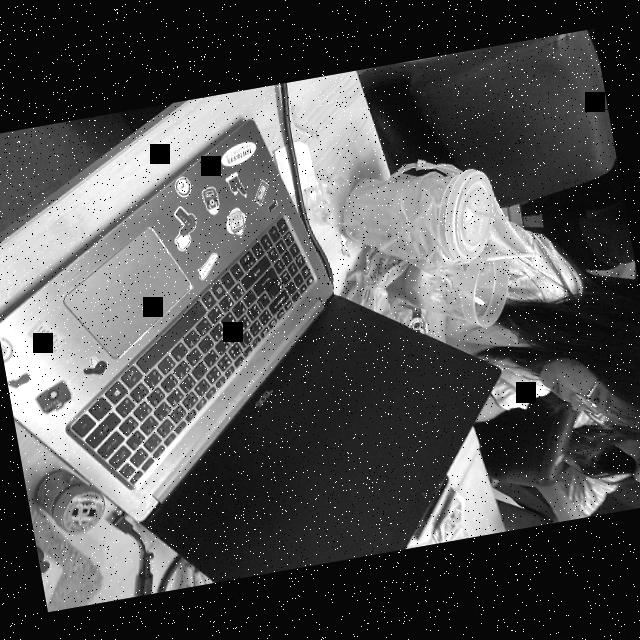plastic_bag: (330, 155, 468, 287), (332, 244, 426, 352)
plastic_cup: (384, 244, 530, 344)
plastic_cup_lid: (436, 162, 516, 267)
plastic_spoon: (436, 272, 486, 314)
scrap_paper: (268, 136, 322, 198)
scrap_plastic: (299, 172, 343, 228)
